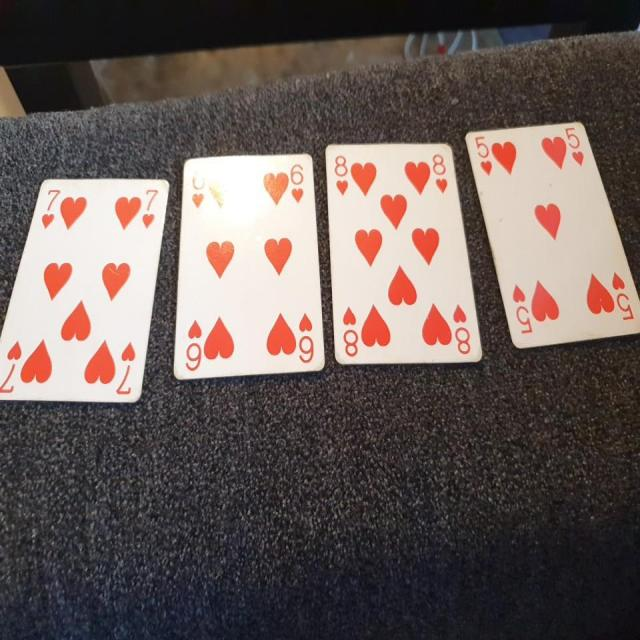5 Hearts: (466, 115, 639, 354)
6 Hearts: (165, 149, 328, 384)
7 Hearts: (1, 160, 174, 407)
8 Hearts: (324, 142, 482, 382)
